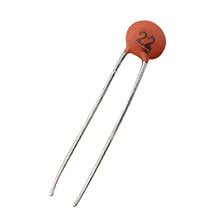ceramic capacitor: (88, 6, 193, 104)
